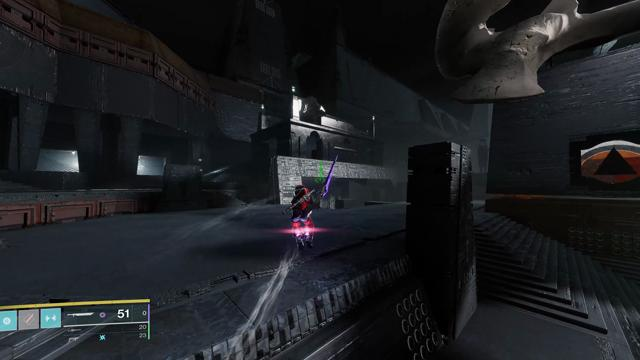pyramid: (581, 139, 640, 183)
